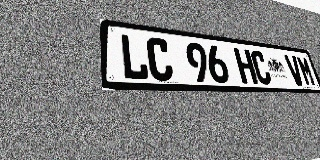6: (204, 44, 230, 83)
9: (185, 42, 212, 83)
C: (145, 37, 174, 81), (249, 50, 273, 85)
H: (234, 48, 258, 84)
L: (119, 33, 149, 80)
M: (296, 56, 317, 86)
V: (284, 54, 306, 86)
